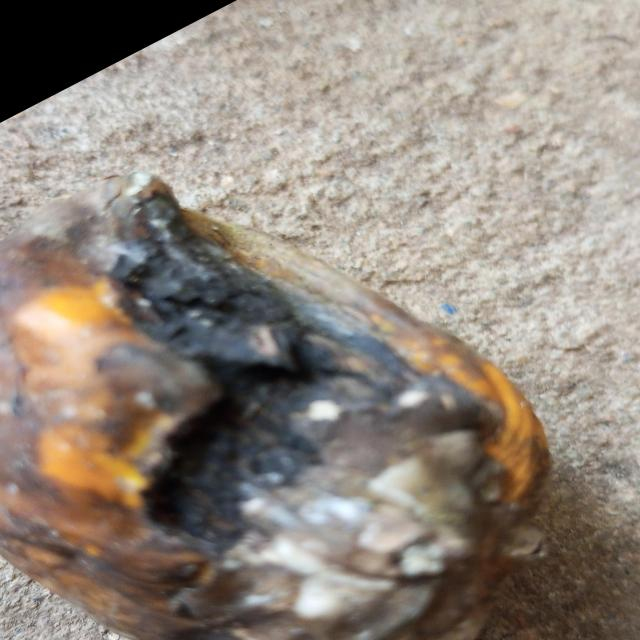damaged: (0, 173, 549, 640)
